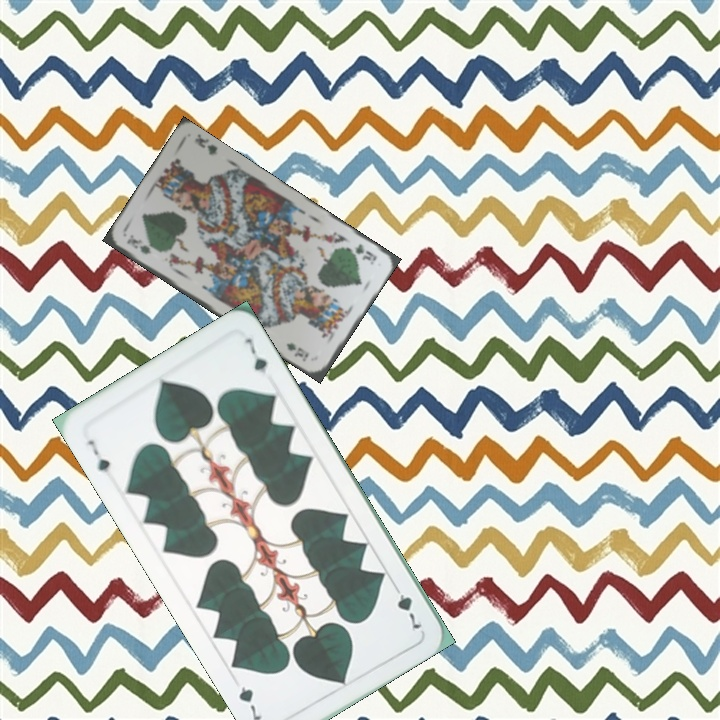G7: (388, 579, 425, 632), (83, 436, 114, 482)
GK: (123, 231, 154, 257), (350, 240, 379, 267)
